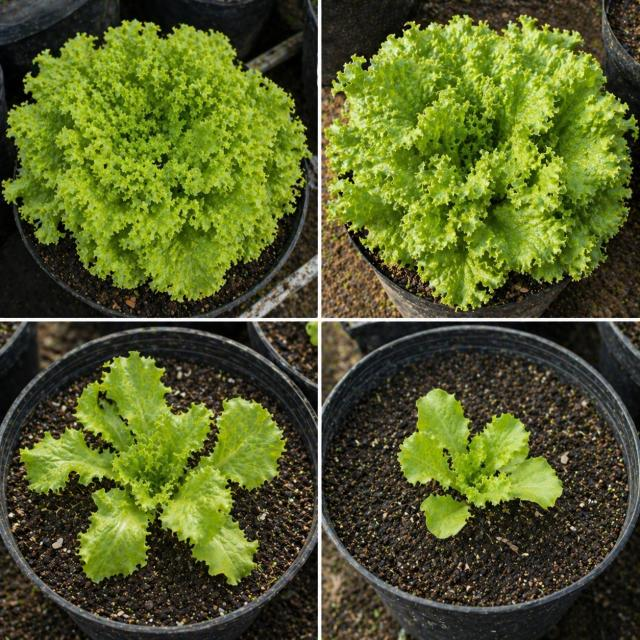inmadura: (20, 351, 286, 585), (397, 388, 562, 538)
lista_para_cosechar: (326, 16, 637, 309), (4, 21, 308, 301)
